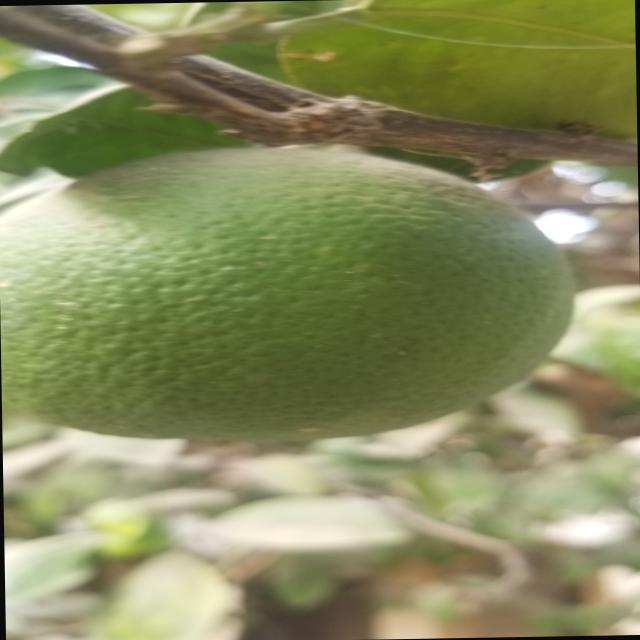Unripe: (0, 146, 583, 444)
